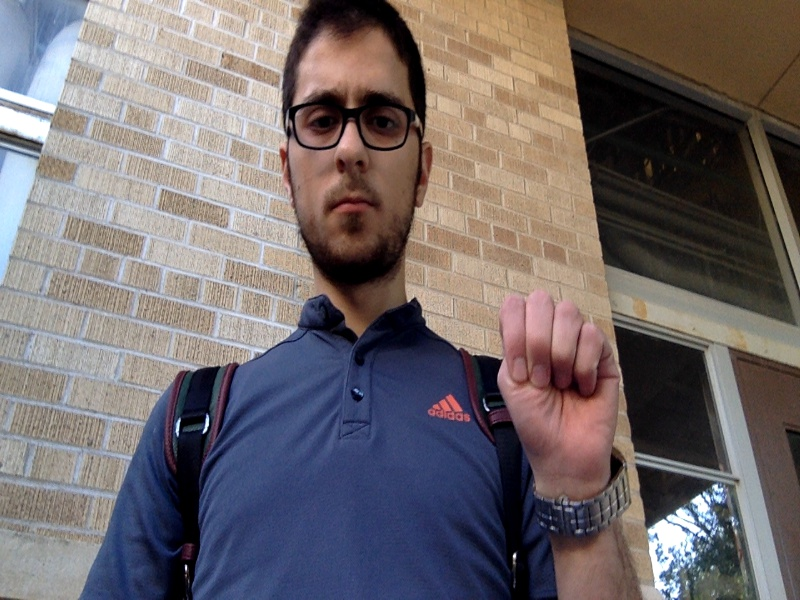0-hand: (498, 292, 619, 482)
